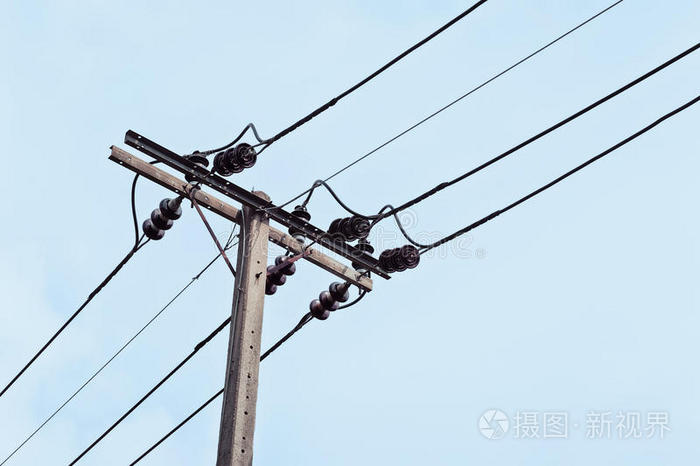insulator: (144, 198, 182, 240), (313, 280, 350, 321), (214, 142, 257, 175), (264, 255, 295, 296), (380, 244, 420, 272), (327, 213, 369, 237)
